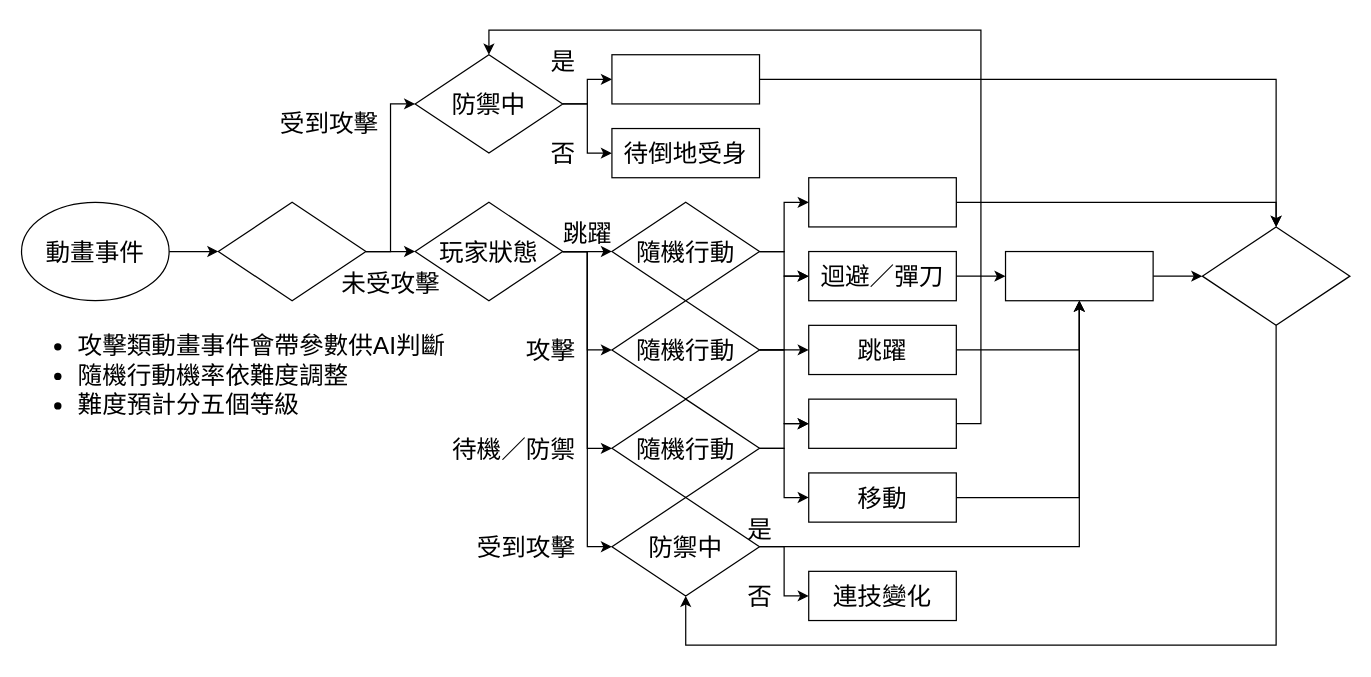
Image size: 1371x677. Some labels were removed from this diagram. The centre of each missing label's shape, as x and y in pixels:
對空攻擊: the point at 881,202
擊中玩家: the point at 1275,275
自我狀態: the point at 291,251
試圖反擊: the point at 685,79
試探攻擊: the point at 1078,275
防禦: the point at 881,423
